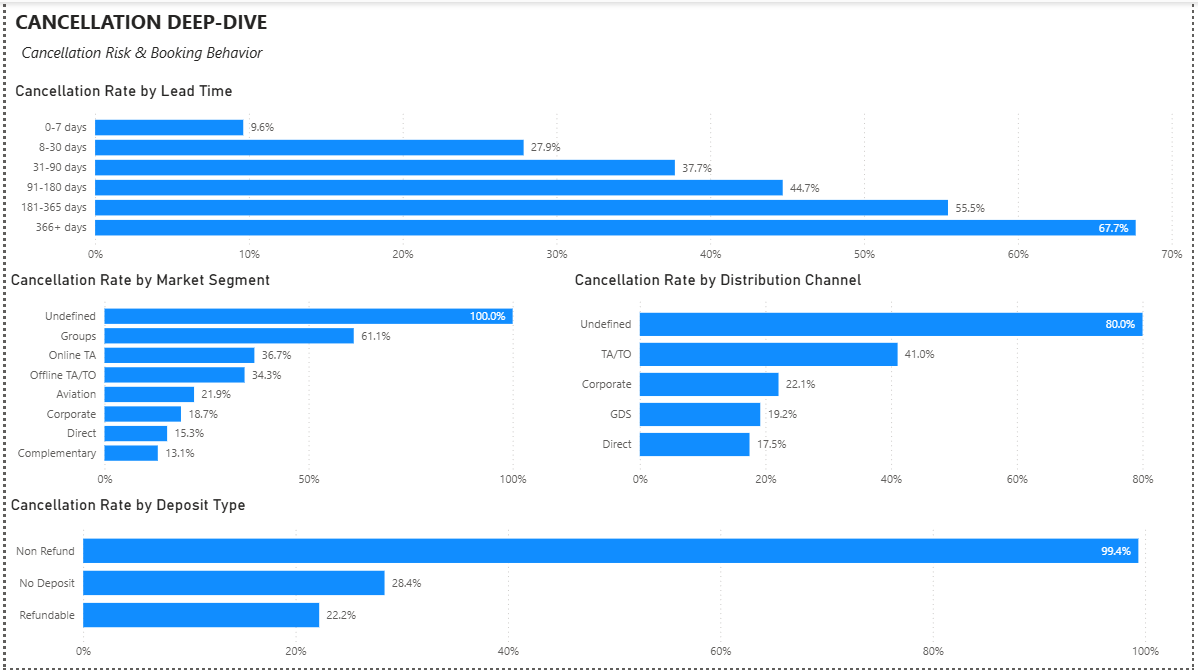

The dashboard page shown, as its layout file describes it:
{"tool":"powerbi","page":{"name":"Cancellation Deep-Dive","canvas":[1280,720],"ordinal":1},"visuals":[{"type":"clusteredBarChart","title":"Cancellation Rate by Market Segment","fields":{"Category":["dim_market_segment.market_segment"],"Y":["_Measures.Cancellation Rate"]},"box":[0,289.8,608.8,242.9],"z":0},{"type":"clusteredBarChart","title":"Cancellation Rate by Distribution Channel","fields":{"Category":["dim_distribution_channel.distribution_channel"],"Y":["_Measures.Cancellation Rate"]},"box":[608.8,289.8,672,242.9],"z":1000},{"type":"clusteredBarChart","title":"Cancellation Rate by Deposit Type","fields":{"Category":["dim_deposit_type.deposit_type"],"Y":["_Measures.Cancellation Rate"]},"box":[0,532.7,1280.8,186.2],"z":2000},{"type":"clusteredBarChart","title":"Cancellation Rate by Lead Time","fields":{"Category":["fact_bookings.Lead Time Group"],"Y":["_Measures.Cancellation Rate"]},"box":[4.9,85.8,1271.1,204],"z":3000},{"type":"textbox","box":[4.9,0,701.1,85.8],"z":6001}]}

Visuals, with their boxes in screenshot pixels (x1, y1, x2, y2), scaled from the page's 1280x720 canvas onto the 1198x670 screenshot:
"Cancellation Rate by Market Segment" clusteredBarChart: [left=0, top=270, right=570, bottom=496]
"Cancellation Rate by Distribution Channel" clusteredBarChart: [left=570, top=270, right=1197, bottom=496]
"Cancellation Rate by Deposit Type" clusteredBarChart: [left=0, top=496, right=1197, bottom=669]
"Cancellation Rate by Lead Time" clusteredBarChart: [left=5, top=80, right=1194, bottom=270]
textbox: [left=5, top=0, right=661, bottom=80]
